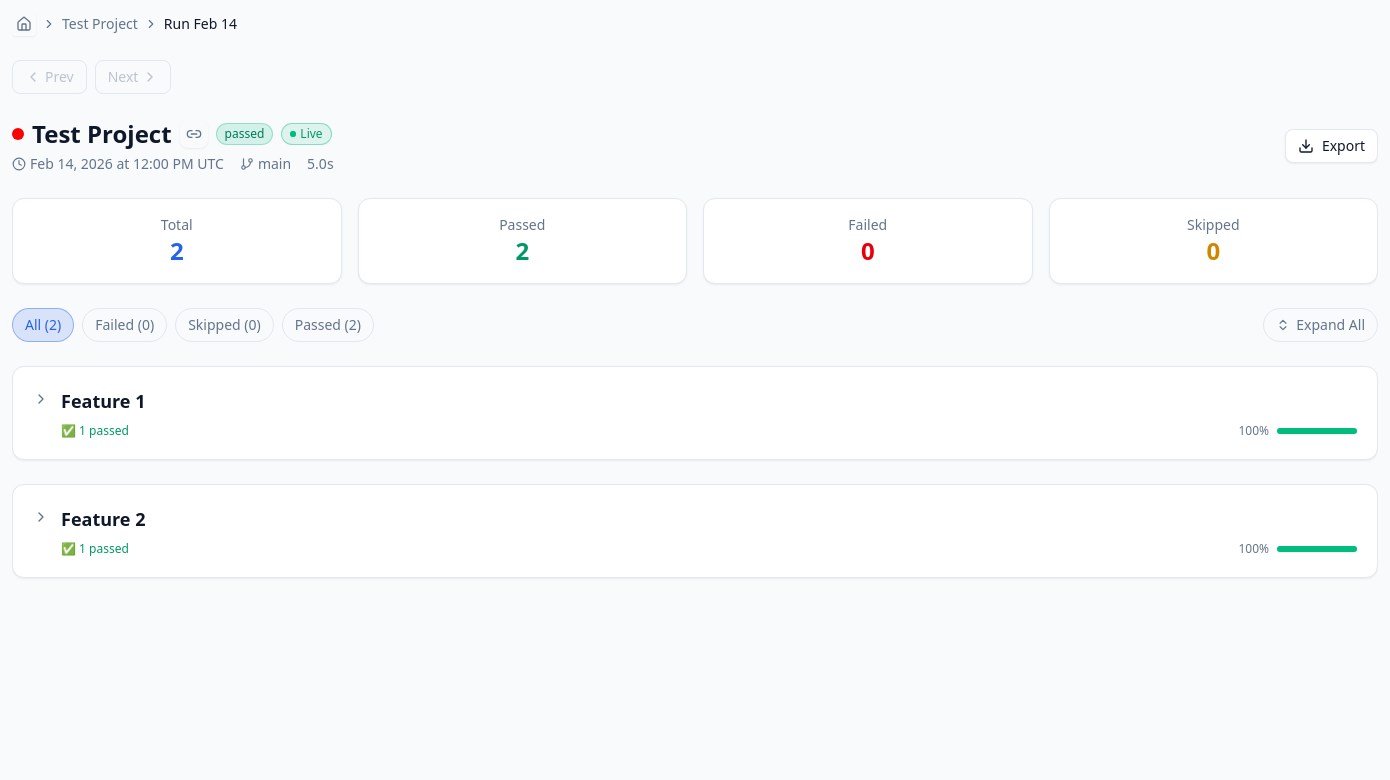
Test case: RunClient - Additional Coverage › toggles all features expanded/collapsed
Expected: the heading "Feature 1" is shown, [61, 389, 146, 413]
Expected: the heading "Feature 2" is shown, [61, 507, 146, 531]
# Features start collapsed (no failures to auto-expand)
Click the button "Expand All": (1321, 325) [1263, 308, 1378, 342]
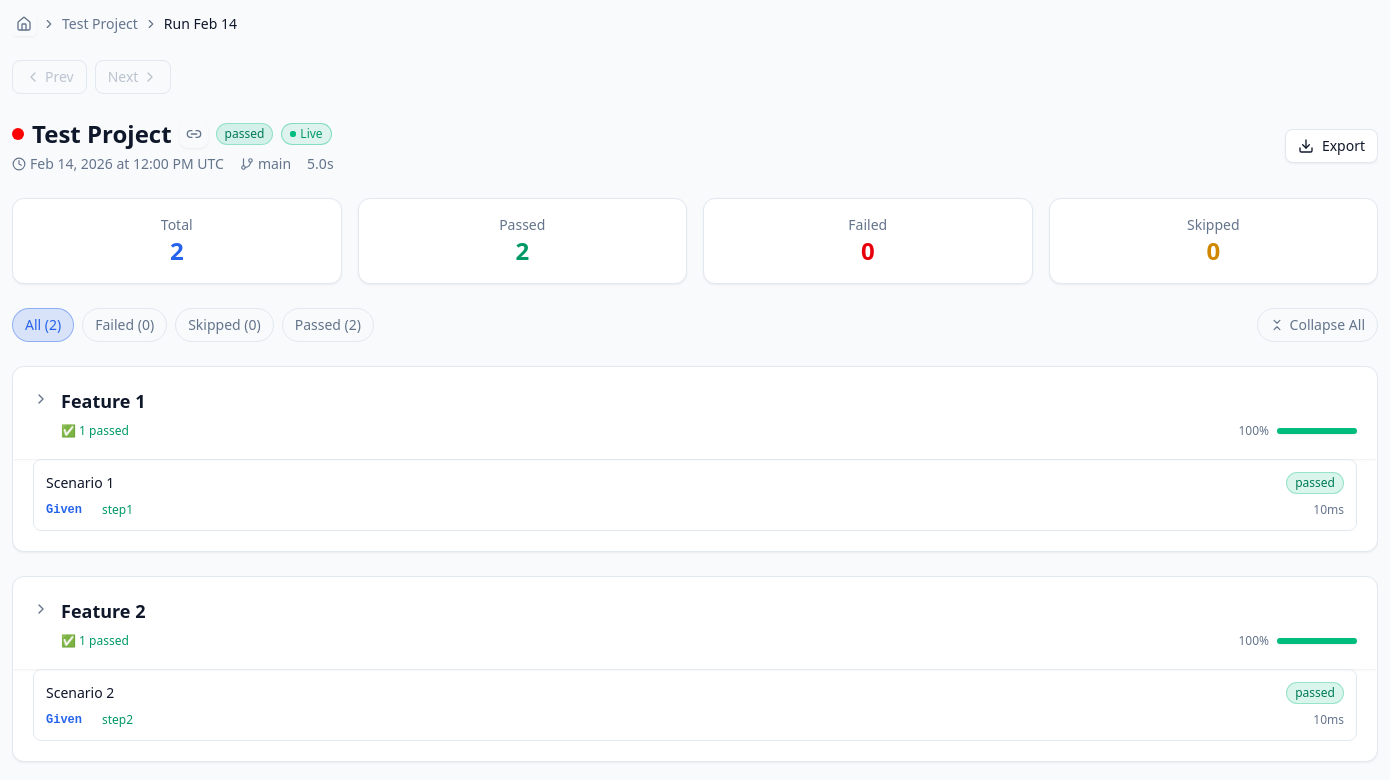
Result: the button "Collapse All" is shown
# Click again to collapse
Click the button "Collapse All": (1317, 325) [1257, 308, 1378, 342]
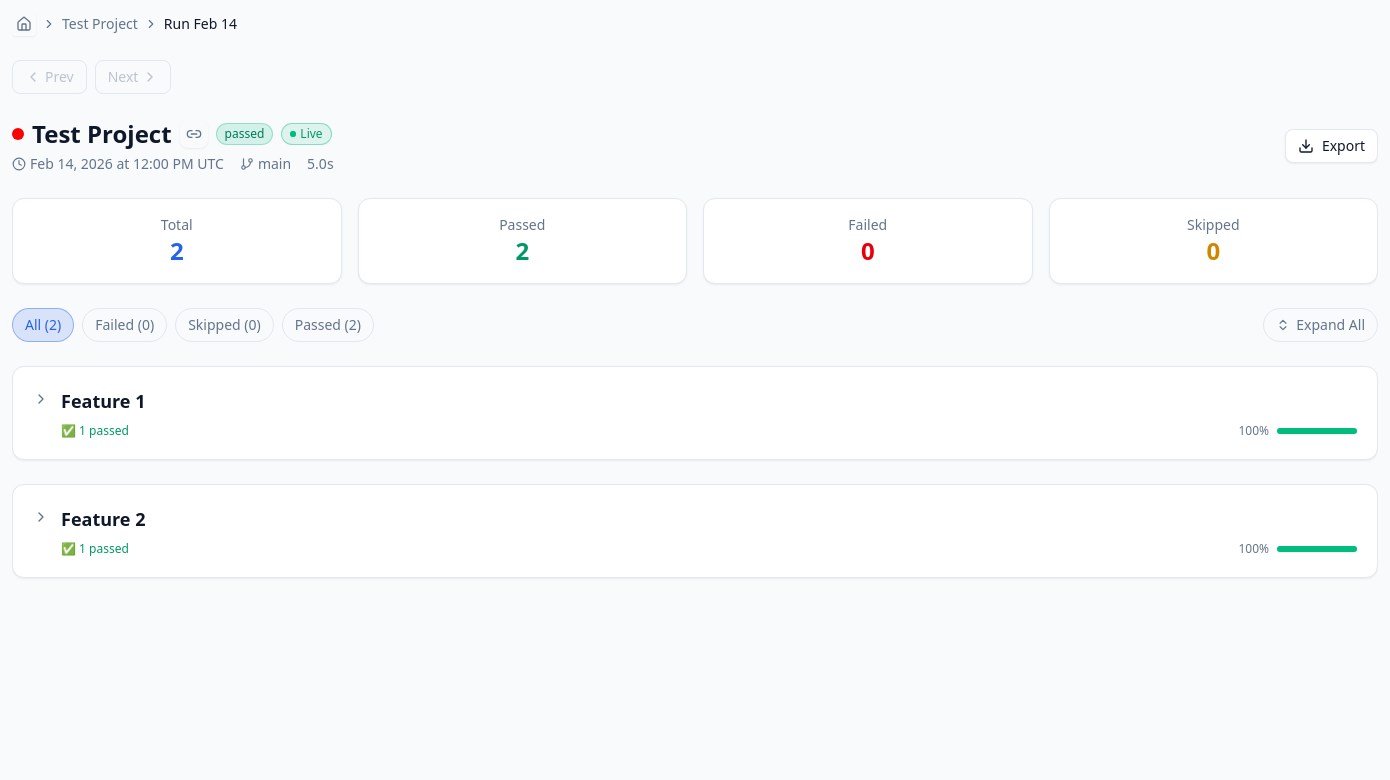
Result: the button "Expand All" is shown at [1263, 308, 1378, 342]
